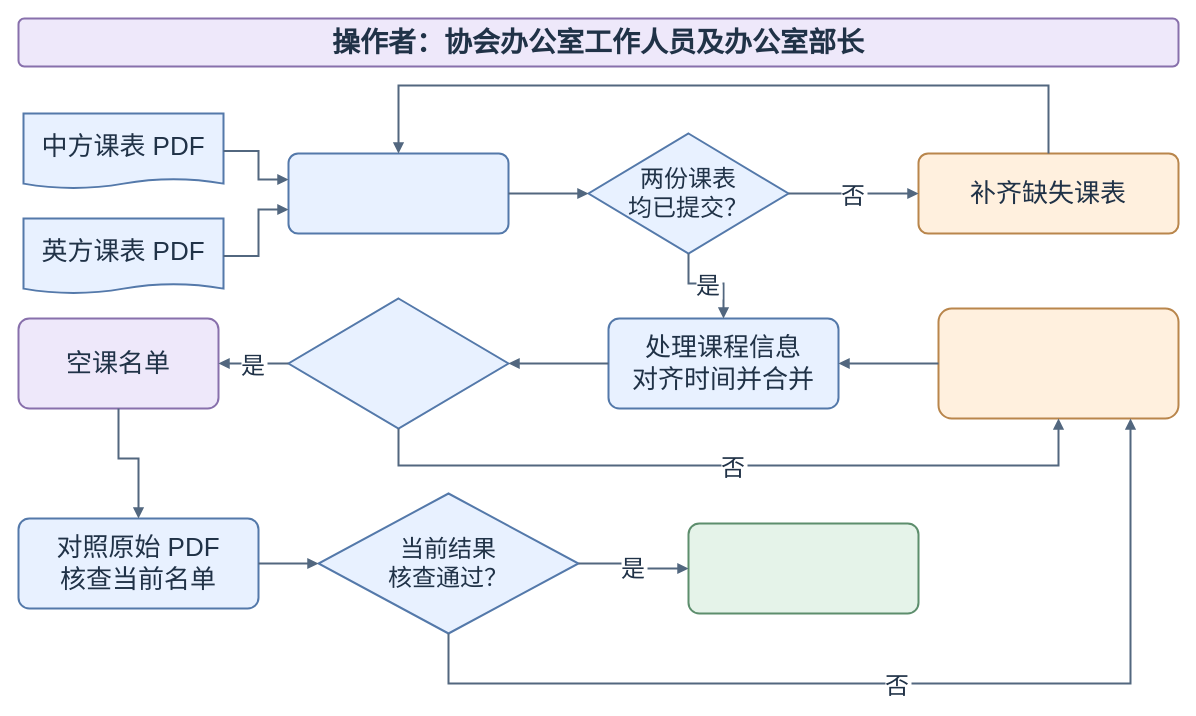
The diagram is 1196 pixels wide and 716 high, and some of its shapes have lost their labels. The centre of each missing label's shape, as x and y in pixels:
修正文件或课程记录 并重新计算: point (1058, 363)
处理成功？: point (398, 363)
导入两份课表: point (398, 193)
最终空课表 （Excel）: point (803, 568)
